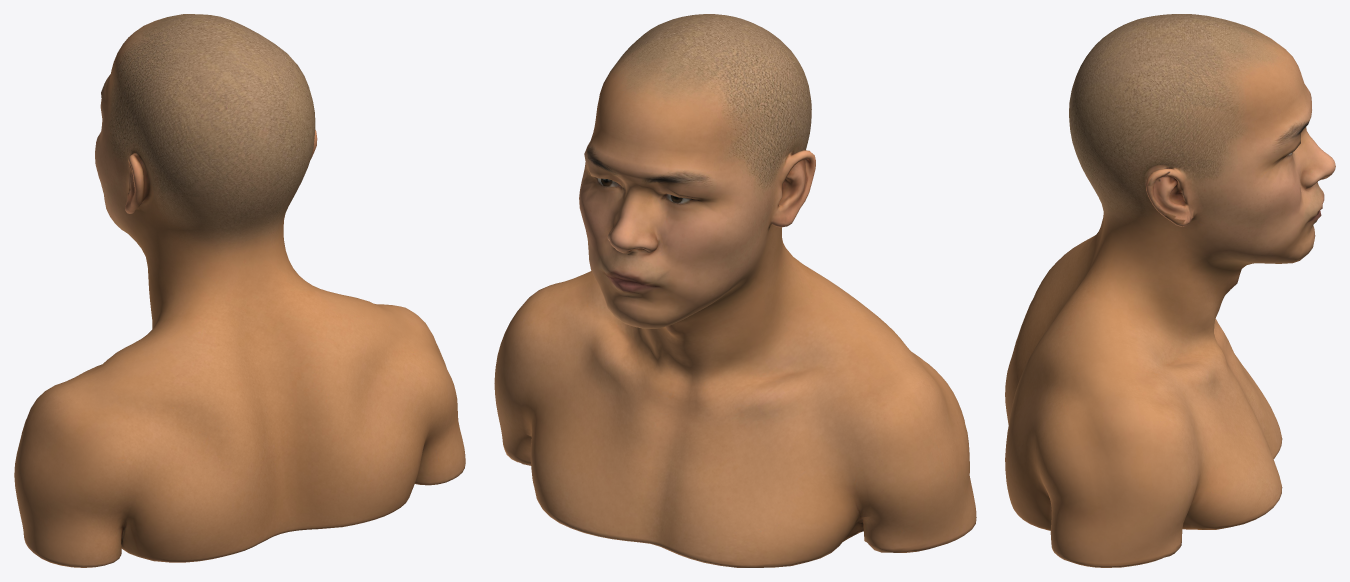
The model's file is Model_HairHead_AzumaShiro.glb.
3 views of the same model, side by side, from view 1: azimuth 30°, elevation 25°; view 2: azimuth 150°, elevation 25°; view 3: azimuth 270°, elevation 25° (orthographic). The views are drawn at different scales.
Visible parts, largest first — view 1: HairHead_AzumaShiro; view 2: HairHead_AzumaShiro; view 3: HairHead_AzumaShiro.
Boxes of the visible parts, box(x1,y1,x2,y2) form: HairHead_AzumaShiro: box(14, 14, 465, 567); HairHead_AzumaShiro: box(494, 14, 976, 567); HairHead_AzumaShiro: box(1005, 14, 1335, 567).
Size of the model in its own units: 0.4799 by 0.4897 by 0.3294.
Materials: 1 (1 with a texture image).
